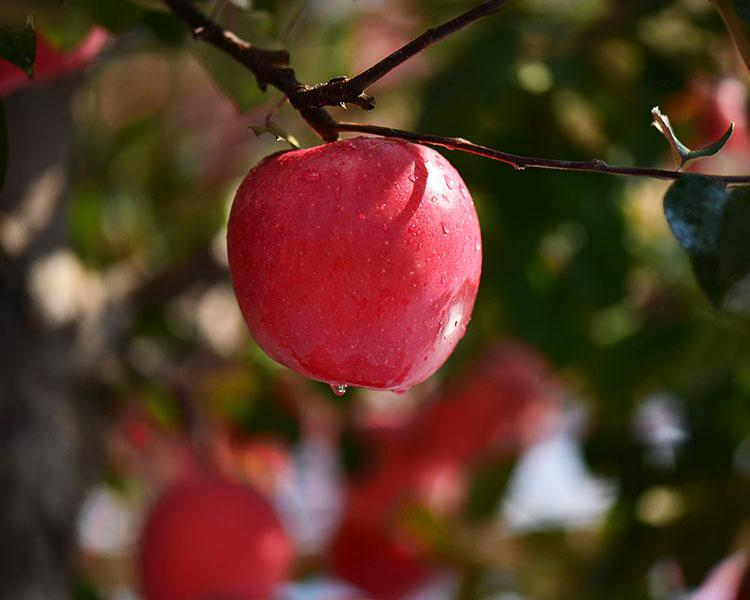apple: (218, 137, 481, 394)
